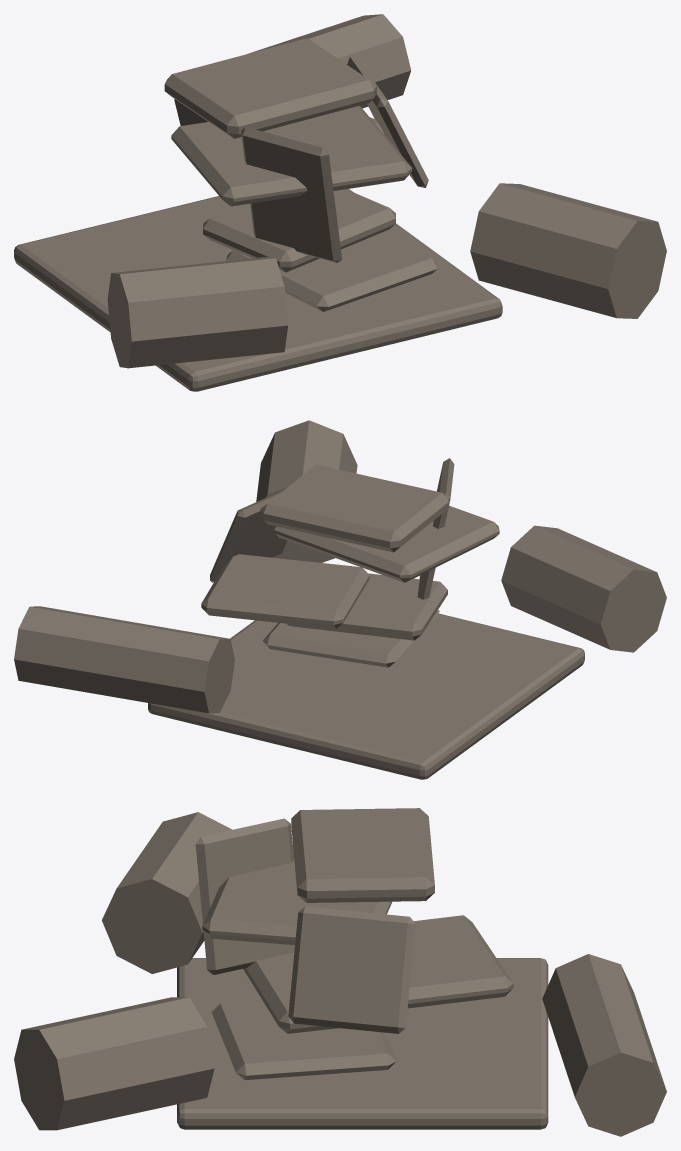
The model's file is scrap_0.glb.
3 views of the same model, one above another, from view 1: azimuth 30°, elevation 25°; view 2: azimuth 150°, elevation 25°; view 3: azimuth 270°, elevation 25° (orthographic). The views are drawn at different scales.
Parts seen in each view (by area): view 1: scrap; view 2: scrap; view 3: scrap.
Part boxes in pixels (<box>): scrap: <box>14,14,666,391</box>; scrap: <box>14,420,666,779</box>; scrap: <box>14,808,666,1136</box>.
Size of the model in its own units: 0.7809 by 0.3189 by 0.8707.
